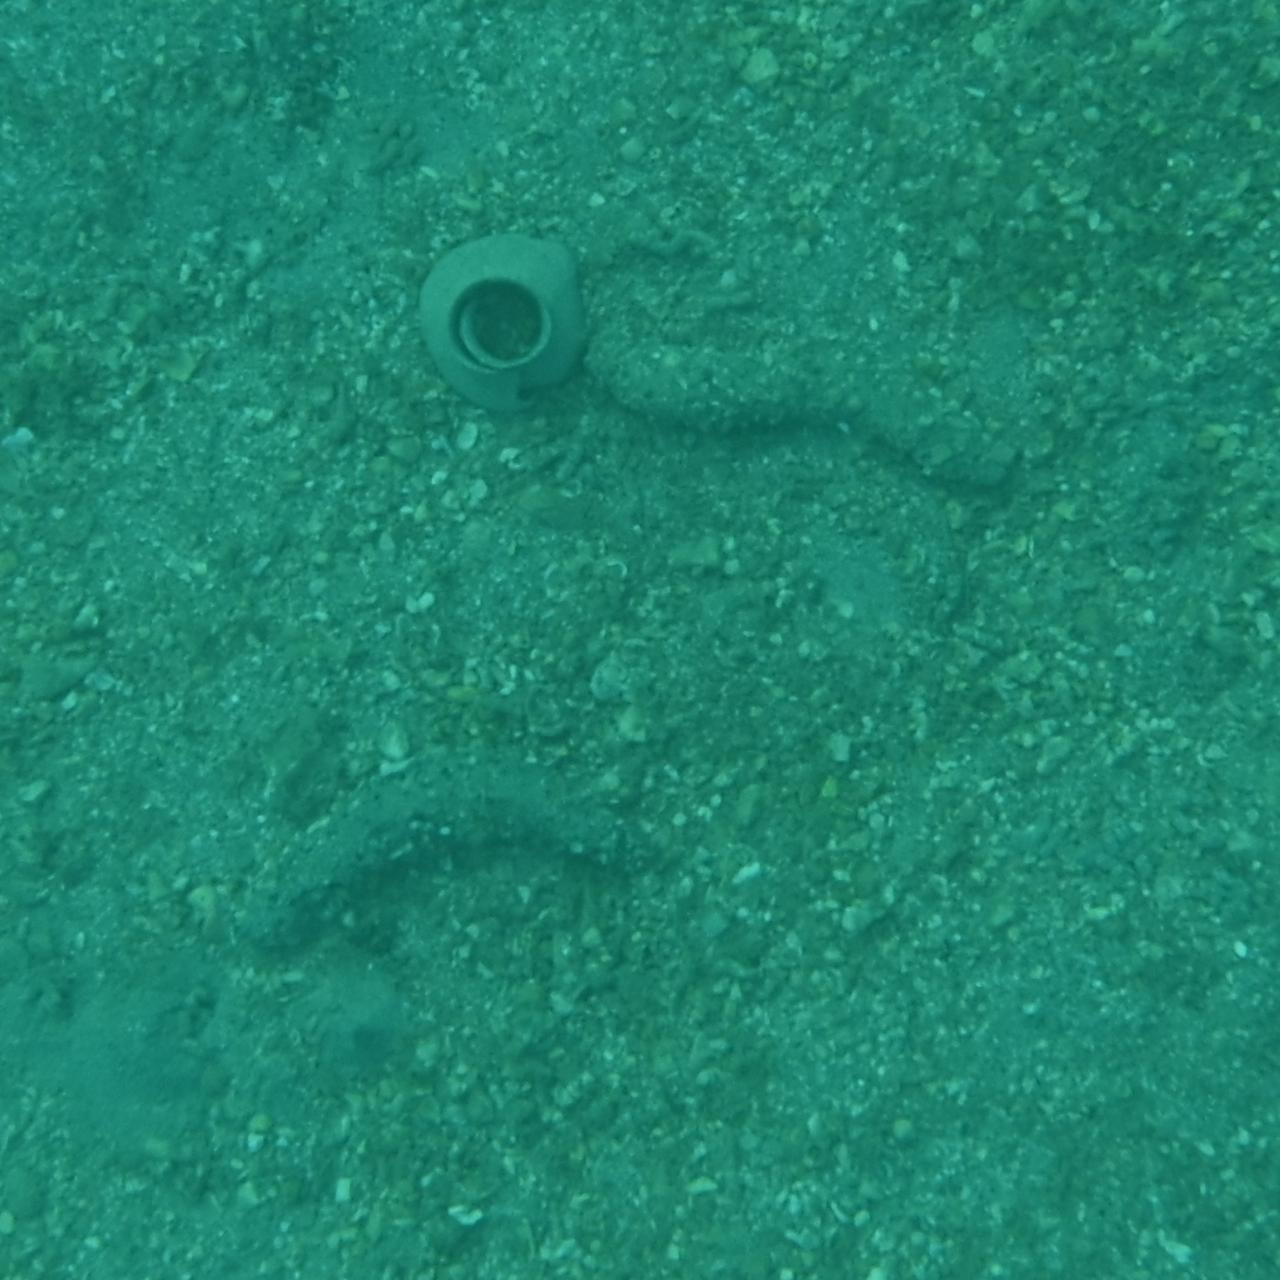Holothuria tubulosa: (244, 769, 682, 973), (598, 327, 1036, 490)
